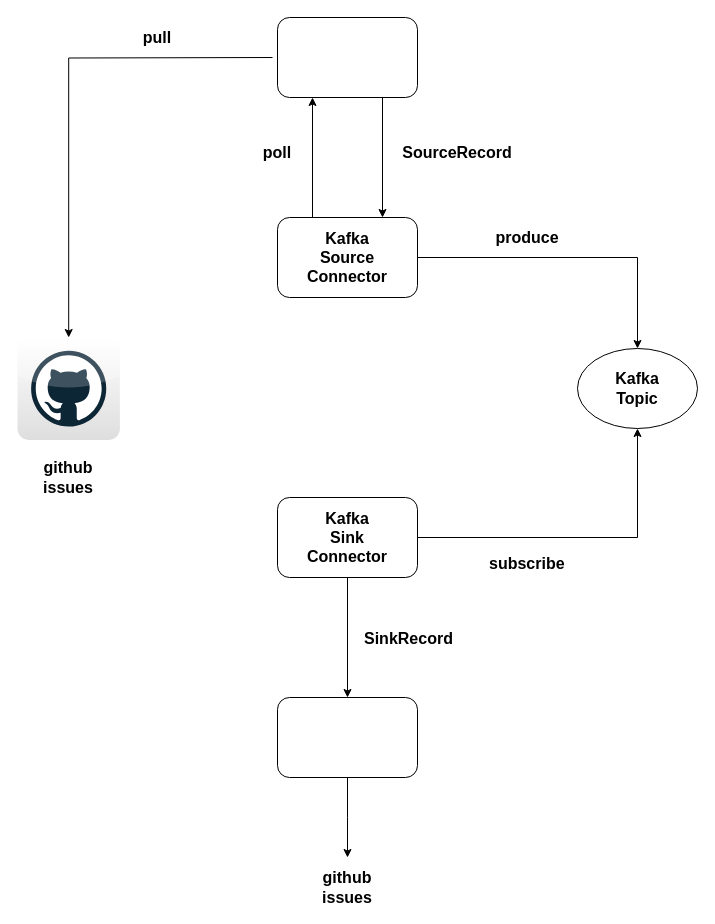
Some shapes in this 715 by 924 pixel diagram are drawn without their labels. Here are the shapes that lost their labels. From the top down, the centre of each, then its label:
the point at 347,57: Kafka Source Task
the point at 347,737: Kafka Sink Task
